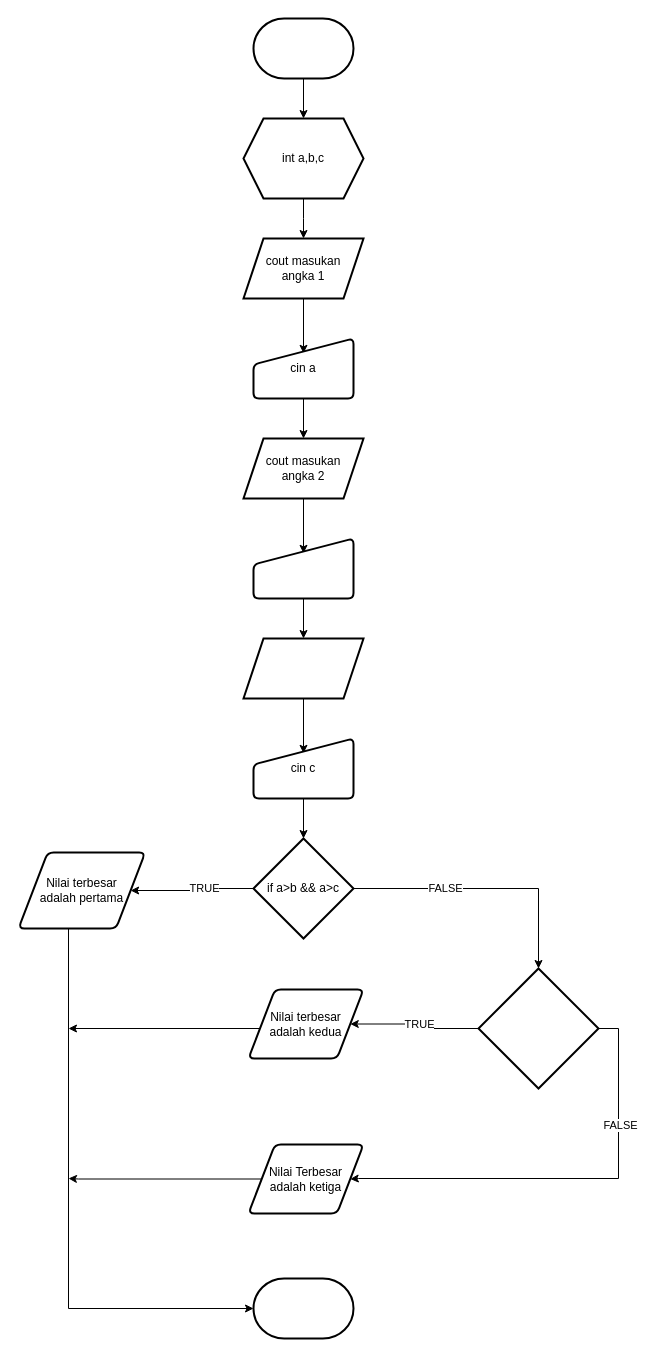
This 654x1356 diagram has some shape labels left out. Here are the shapes that lost their labels. From the top down, the centre of each, then its label:
At point (303, 48): "START".
At point (303, 568): "cin b".
At point (303, 668): "cout masukan angka 3".
At point (538, 1028): "if b>a && b>c".
At point (303, 1308): "END".
